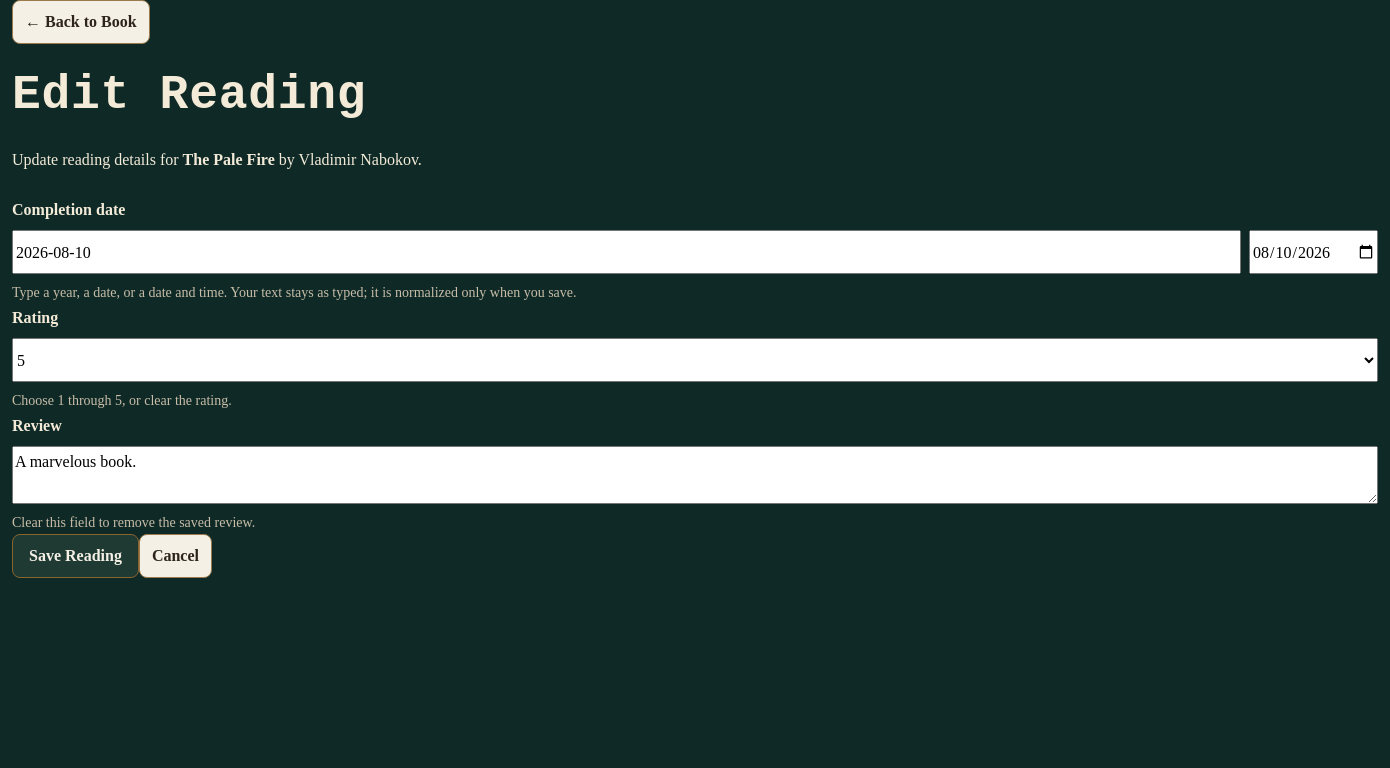
it: ReadingEditPage › does not submit when no reading fields changed
This screenshot has width=1390, height=768.
Click the button "Save Reading": (75, 556) [12, 534, 139, 578]
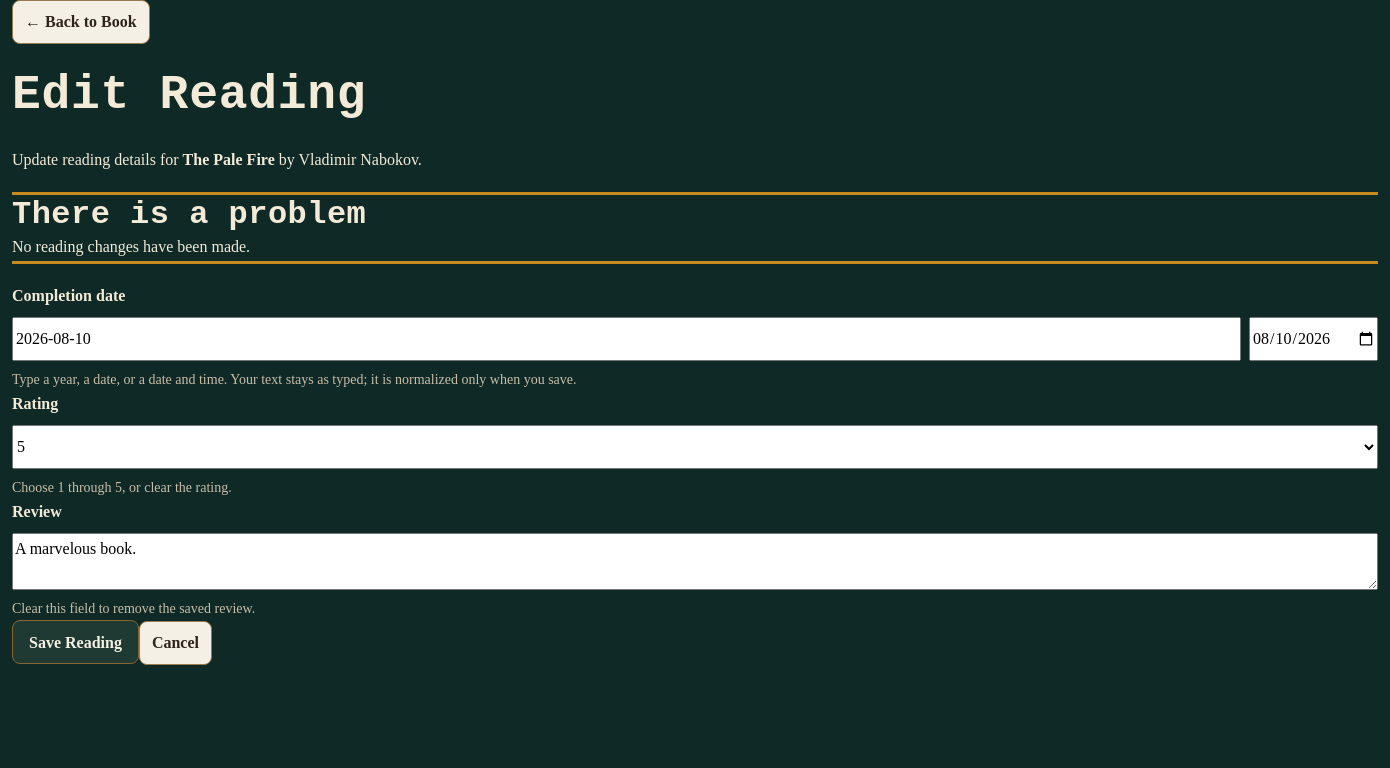
Expected: the message shows "No reading changes have been made.", [12, 238, 250, 255]
